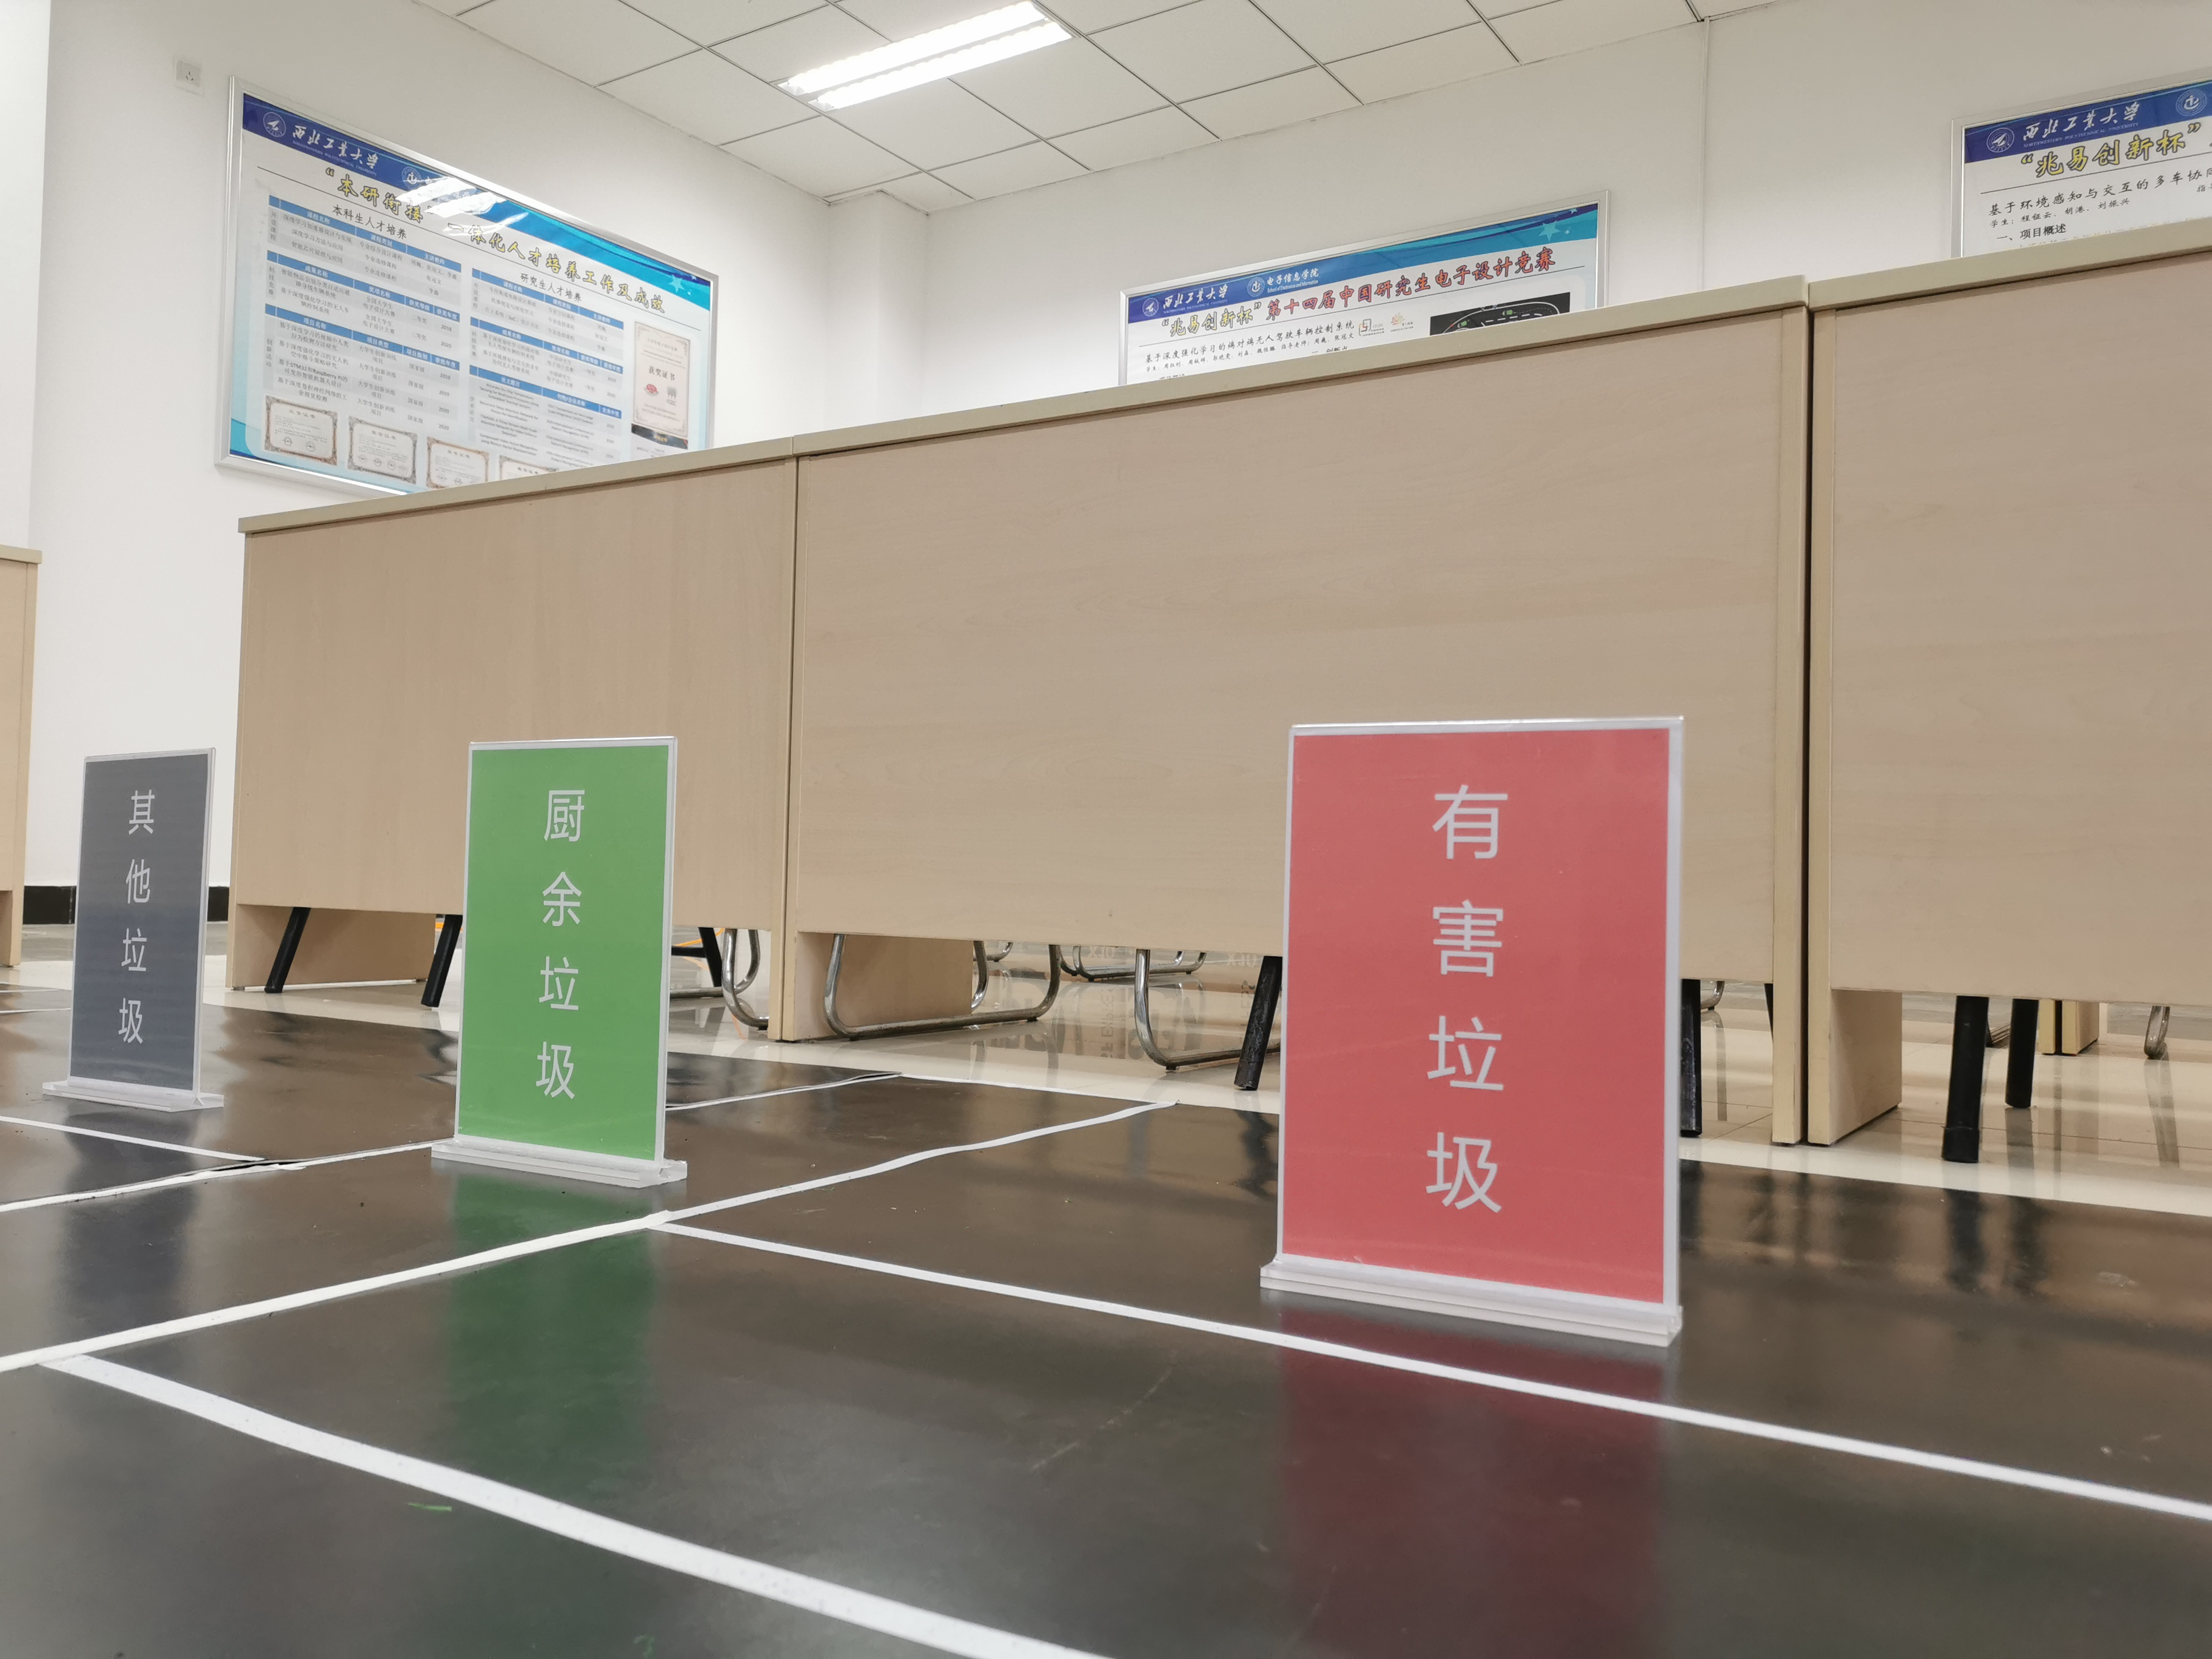black: (85, 769, 190, 1079)
green: (477, 755, 658, 1131)
red: (1298, 739, 1660, 1249)
